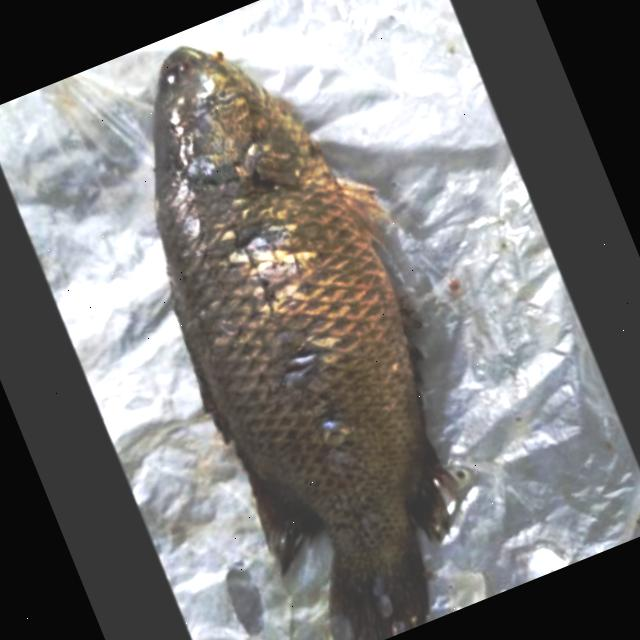Columnaris Disease: (155, 46, 467, 640), (154, 46, 461, 640)
